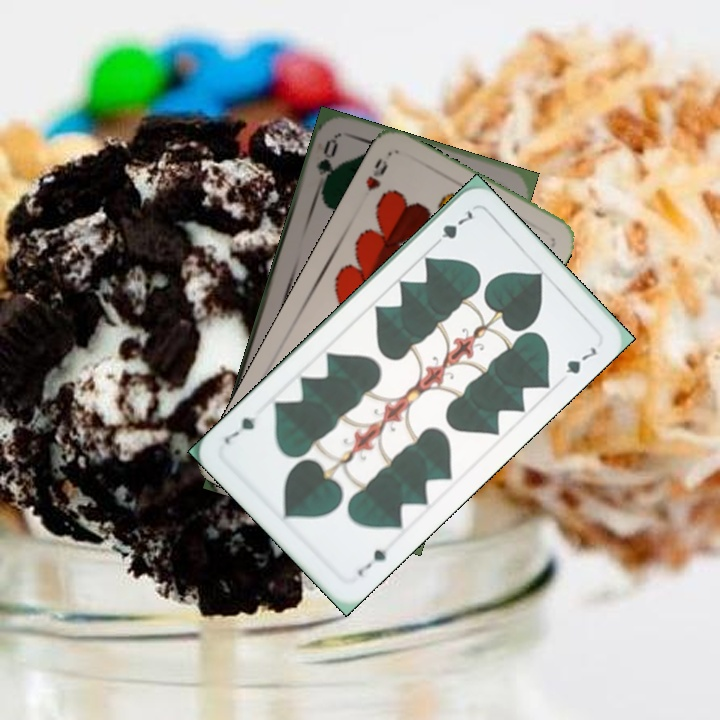G7: (428, 206, 476, 251), (353, 545, 389, 579)
GO: (312, 135, 341, 194)
H9: (361, 154, 391, 194)
